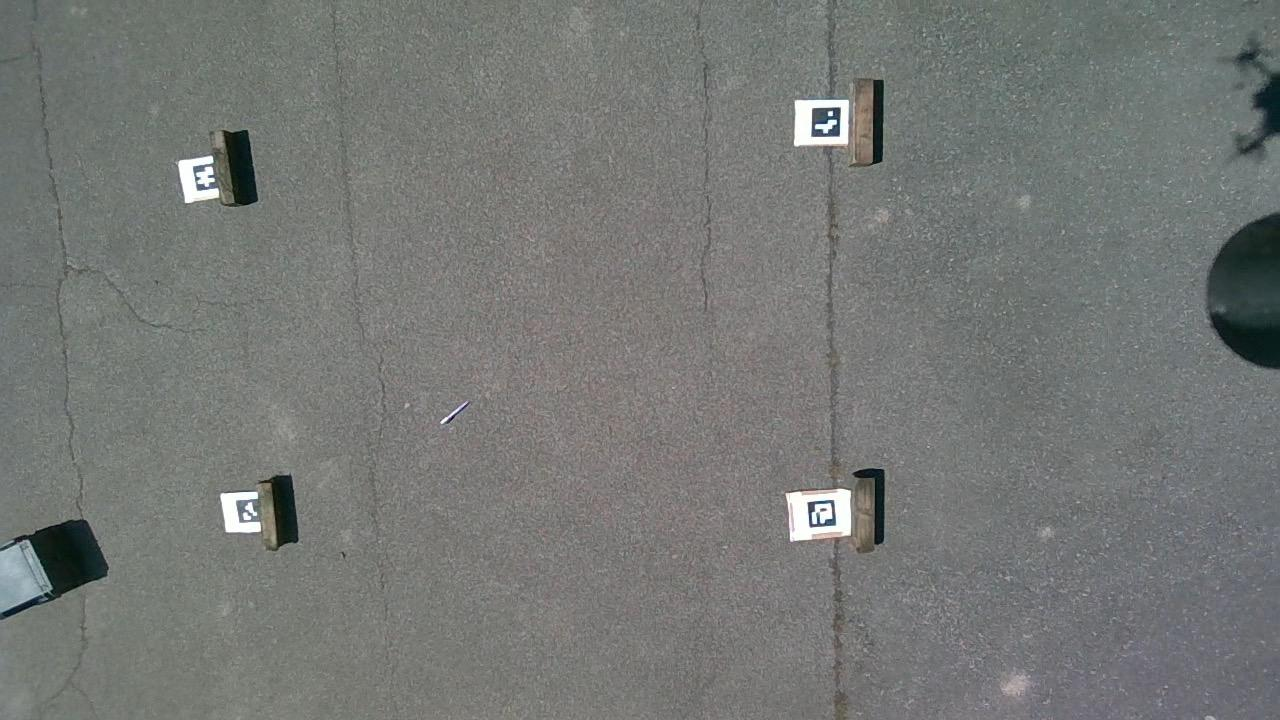probes: (438, 399, 471, 426)
